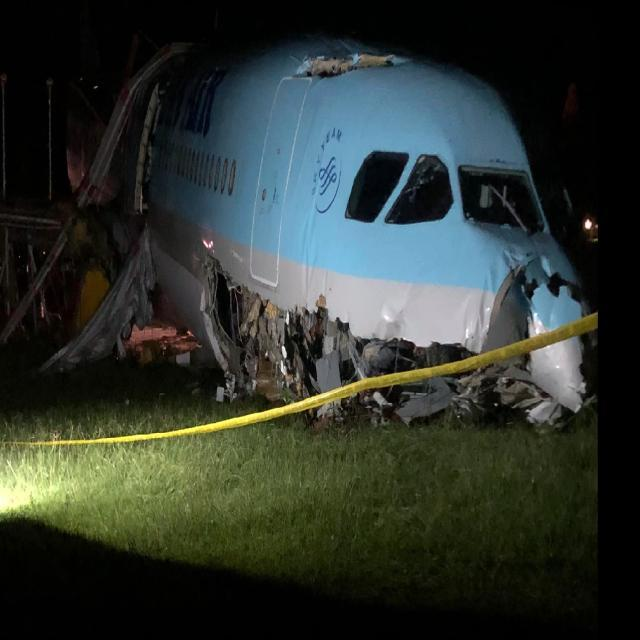crack: (291, 47, 404, 92)
